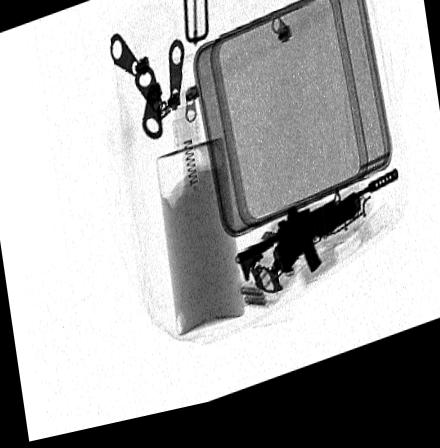Gun: (231, 184, 400, 296)
